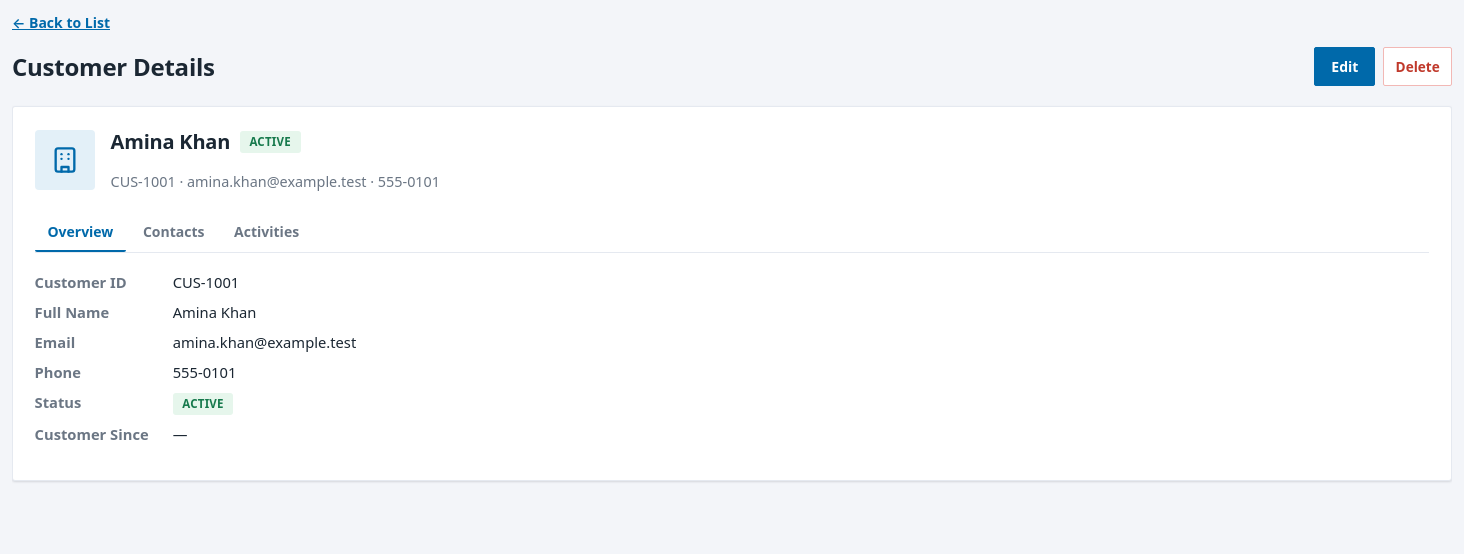
Scenario: CustomerDetailsPage › delete button › shows an error and stays put when the delete fails
What coordinates should you click on to do the following:
click the button "Delete"
I would click on:
 (1418, 67)
Its box is [1383,47,1452,86].
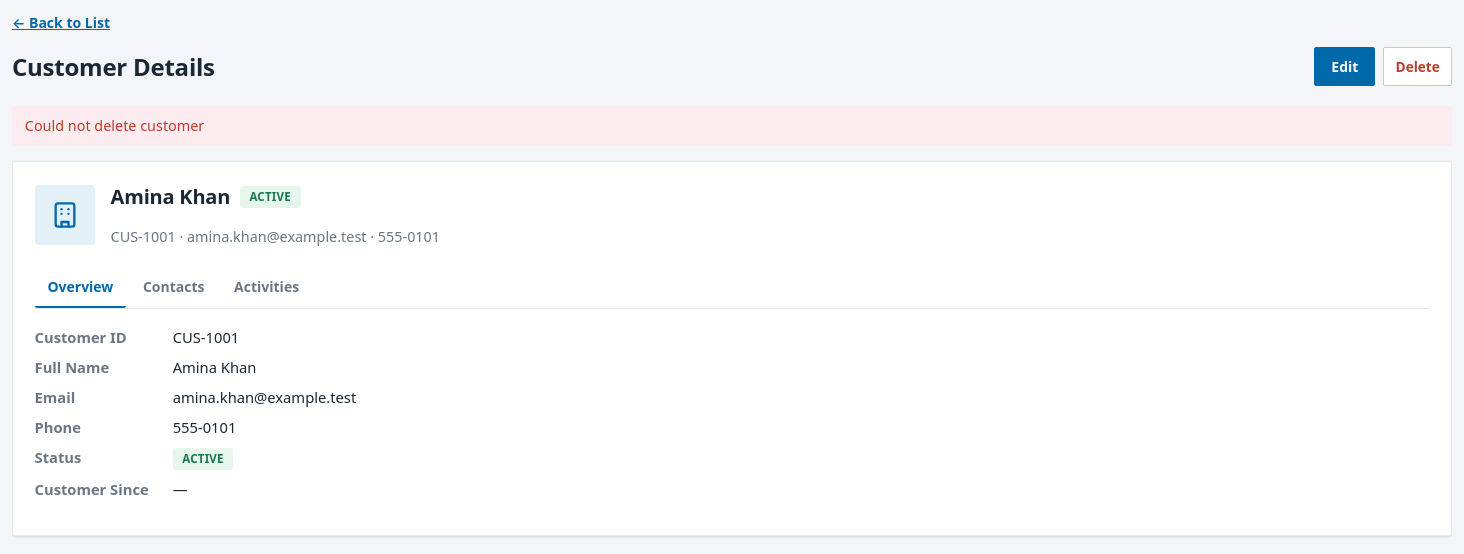
Expected: the message reads "Could not delete customer", [25,116,204,135]
